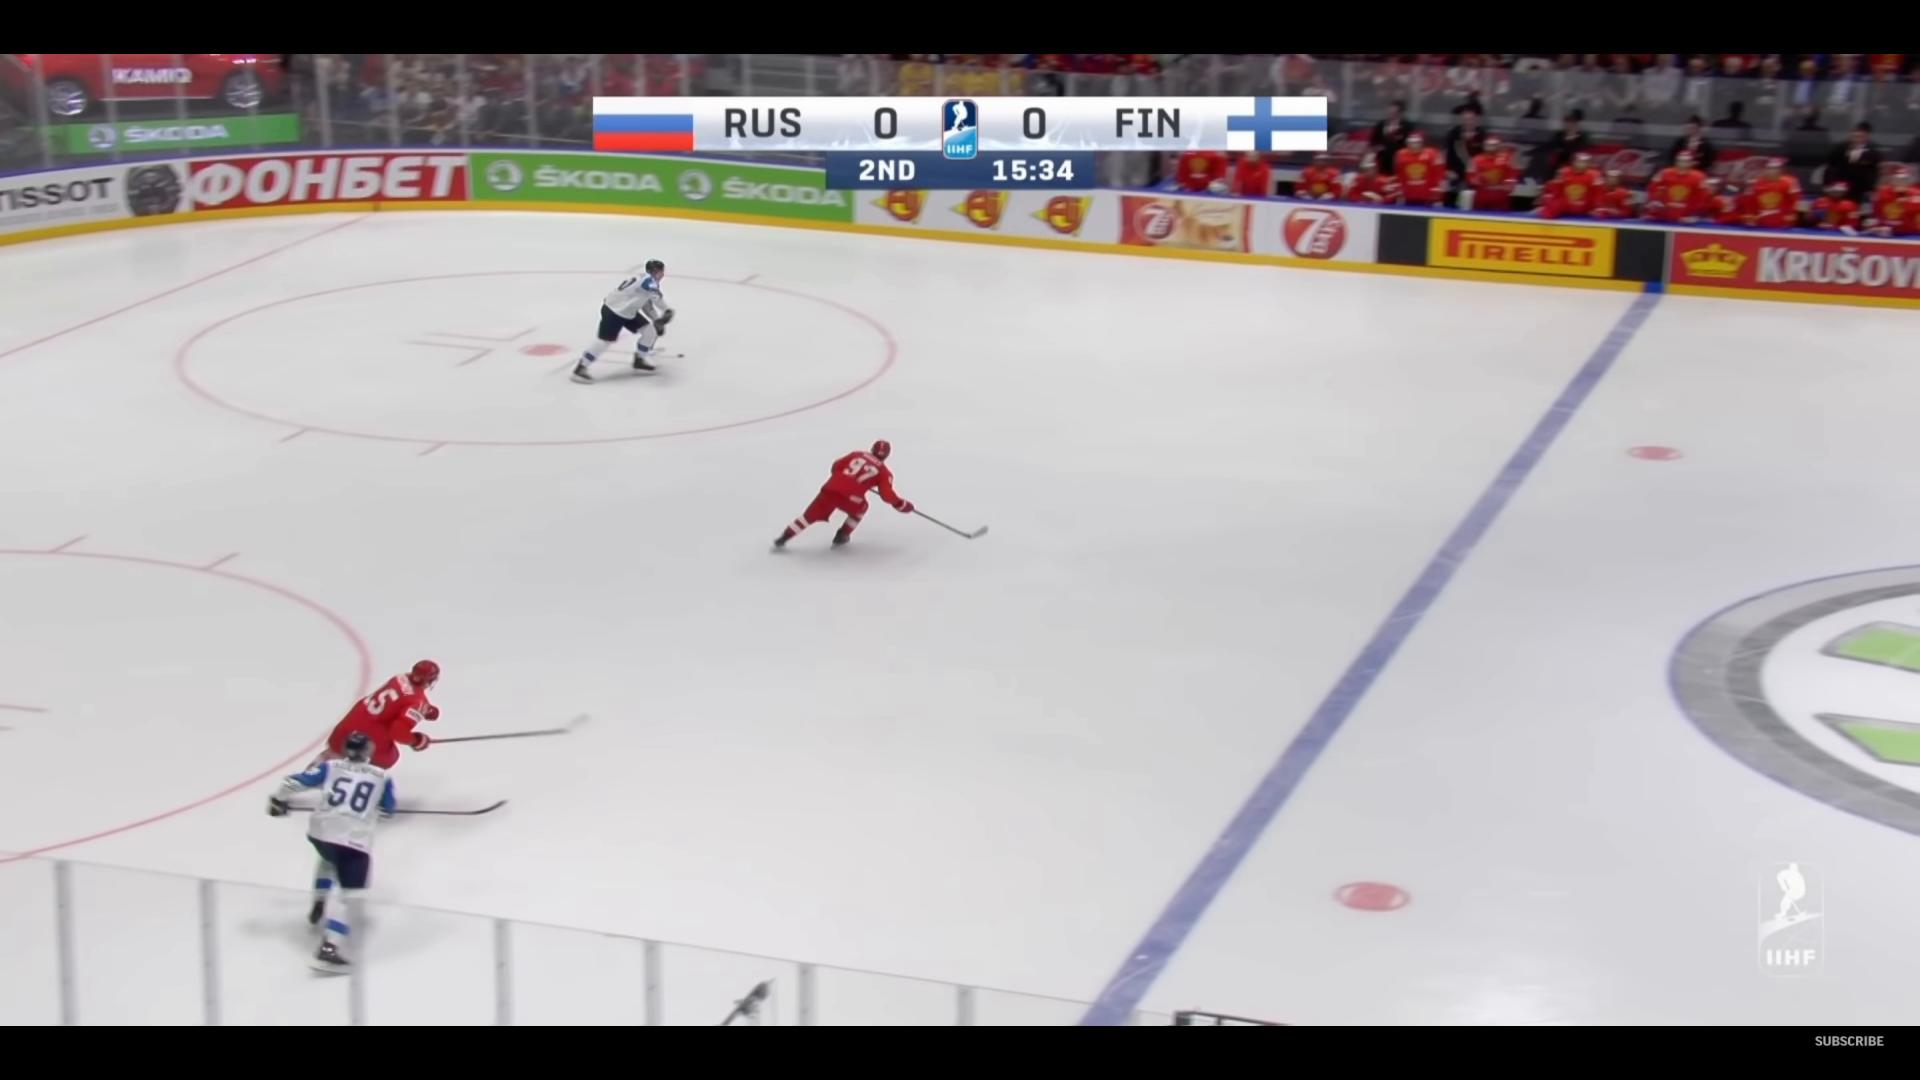puck: (676, 353, 684, 356)
